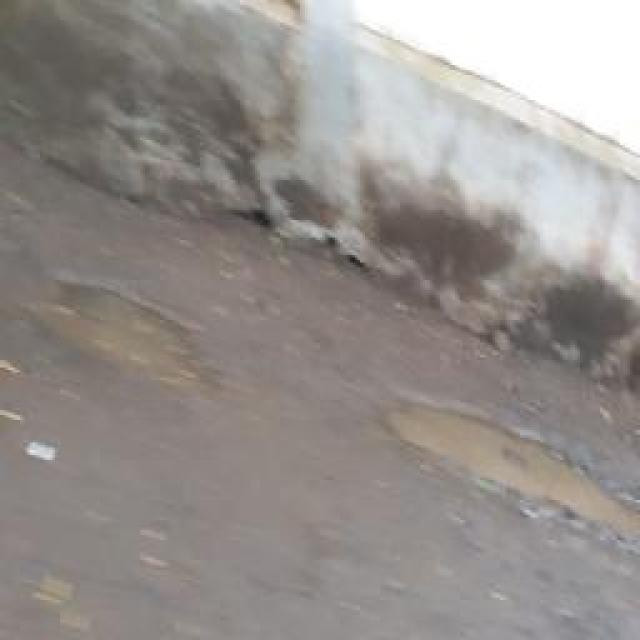stagnation: (367, 389, 640, 562), (43, 262, 220, 411)
